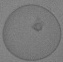small: (31, 21, 42, 31)
